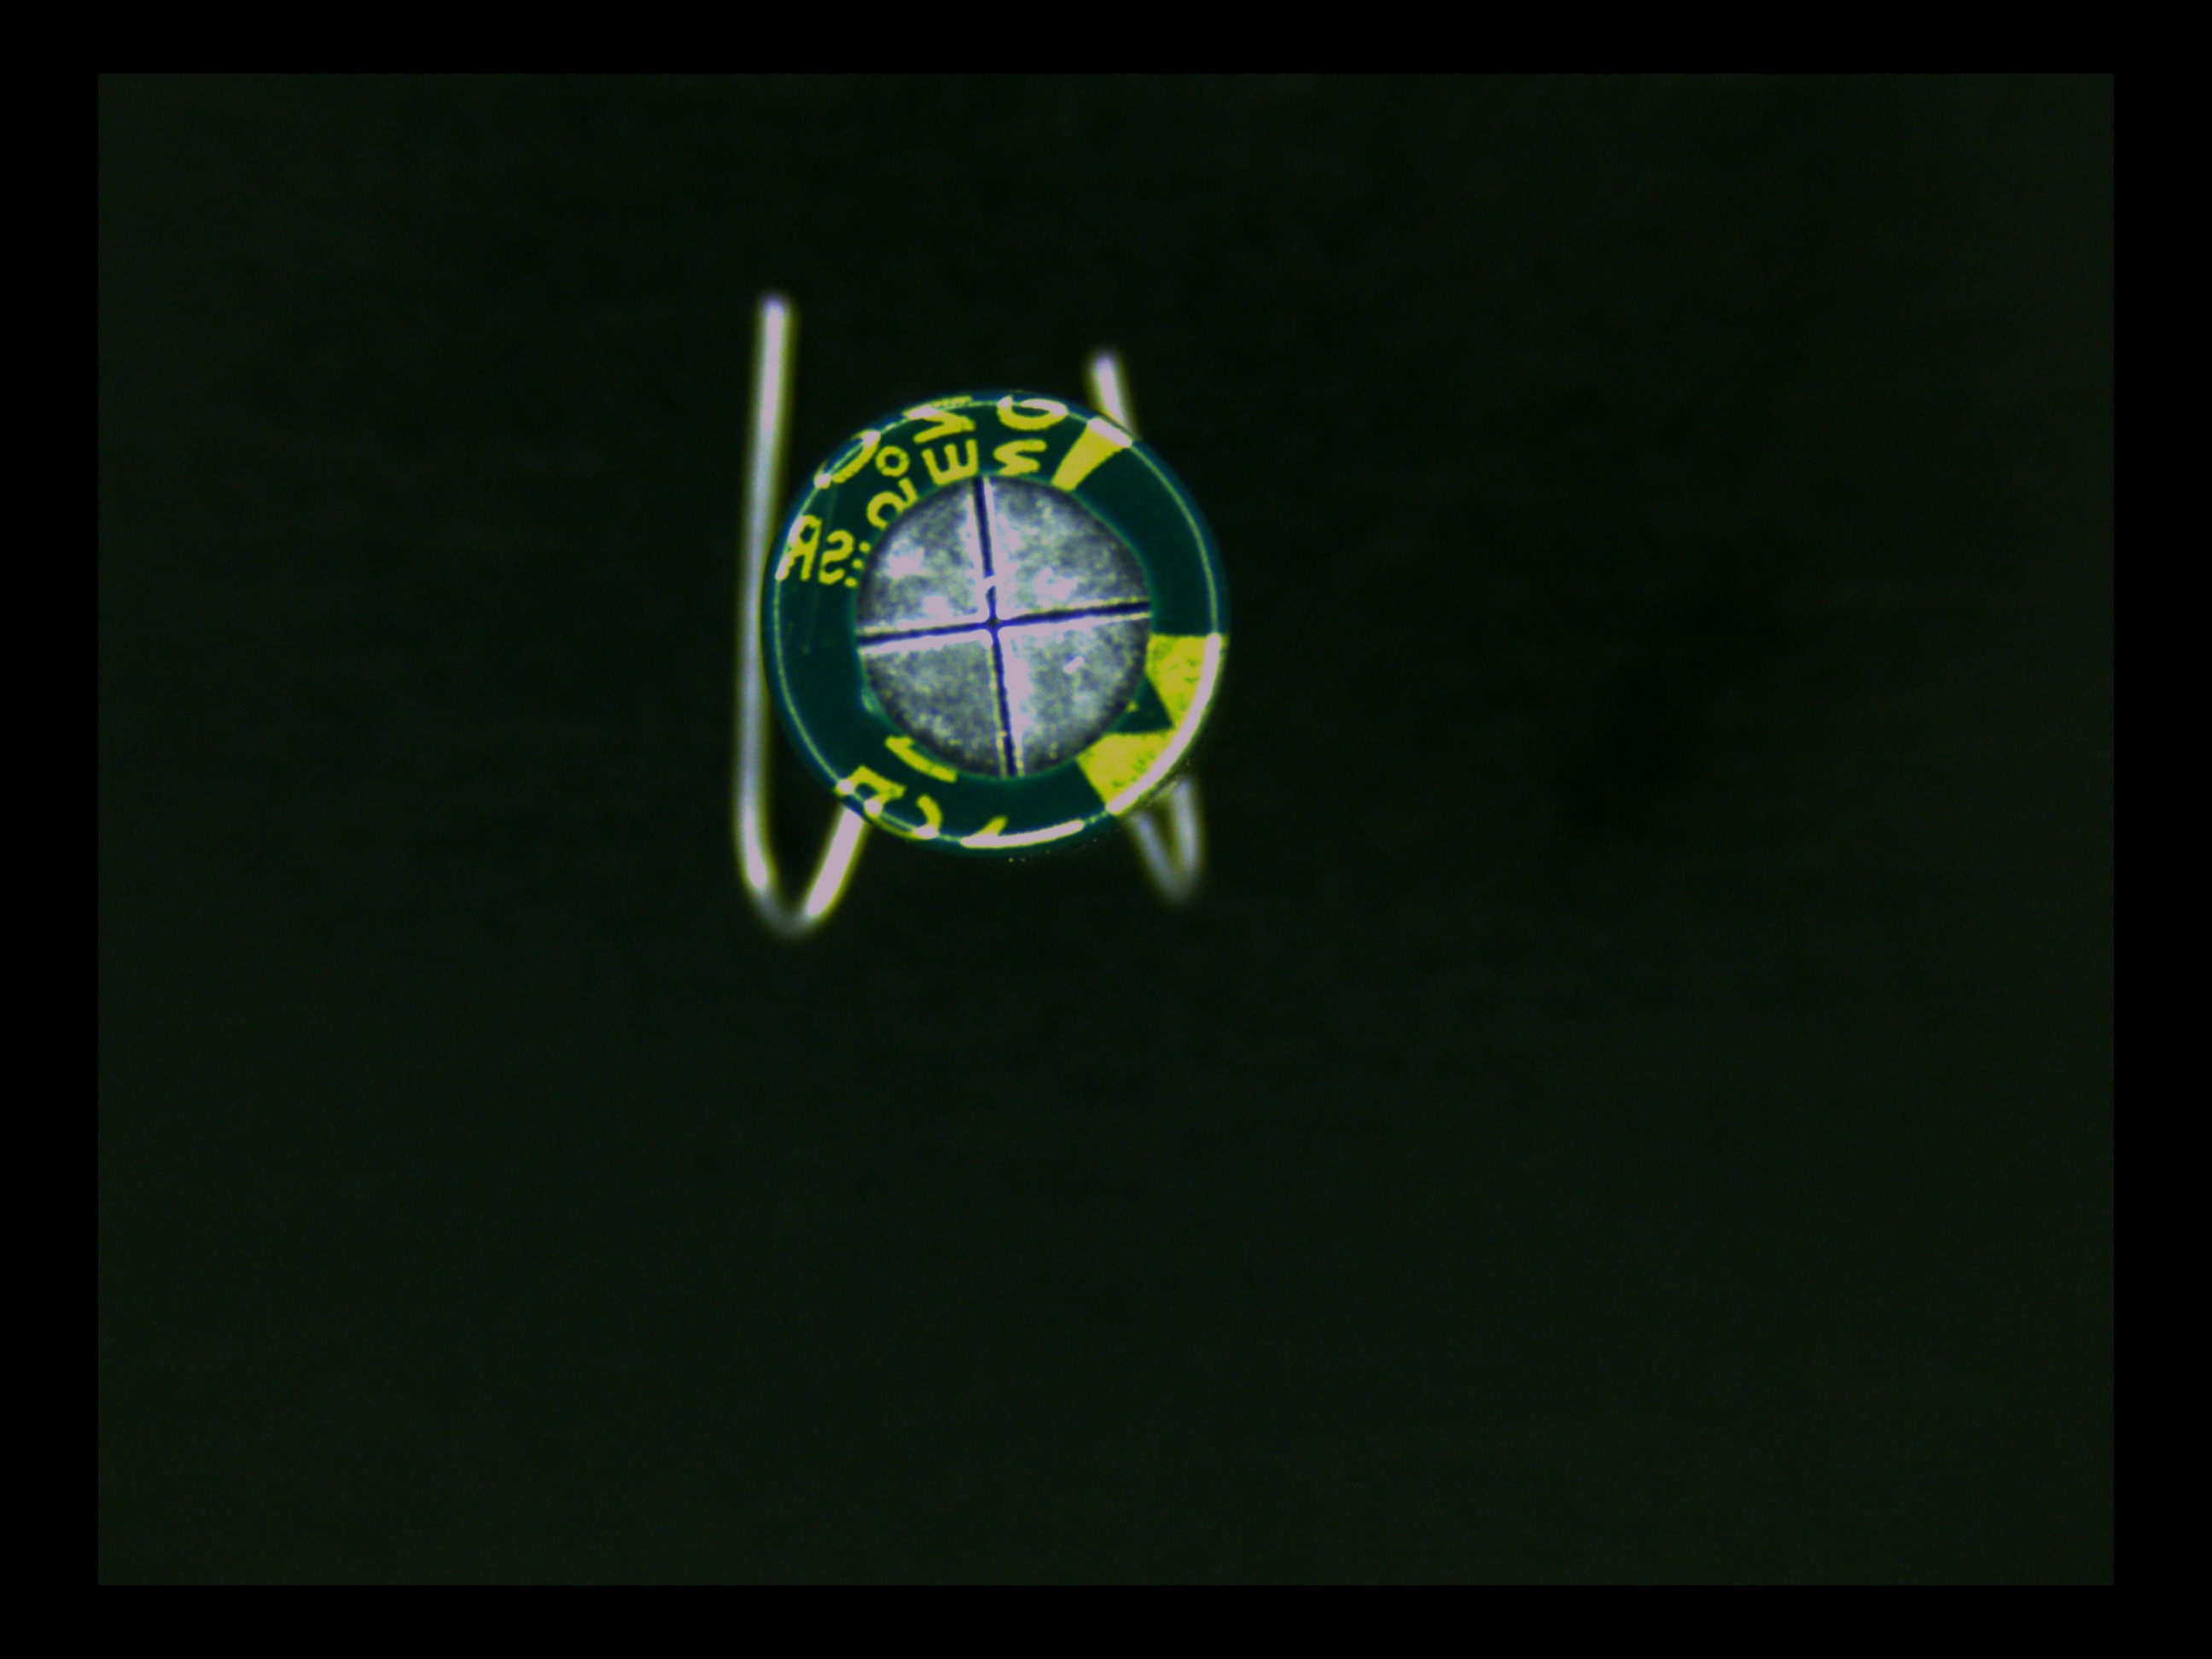c1: (759, 385, 1224, 856)
